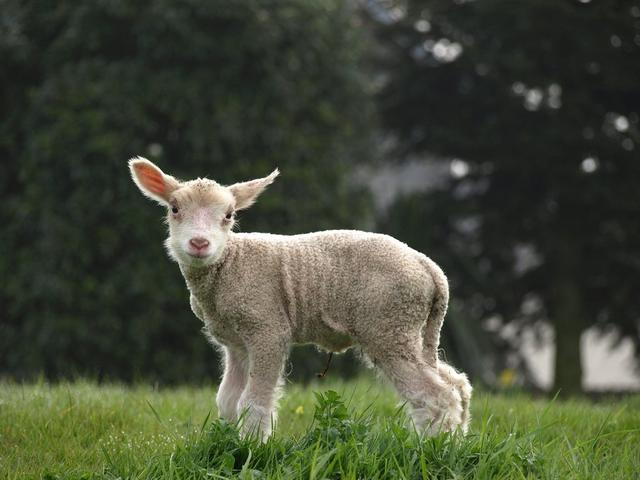sheep: (99, 147, 500, 447)
